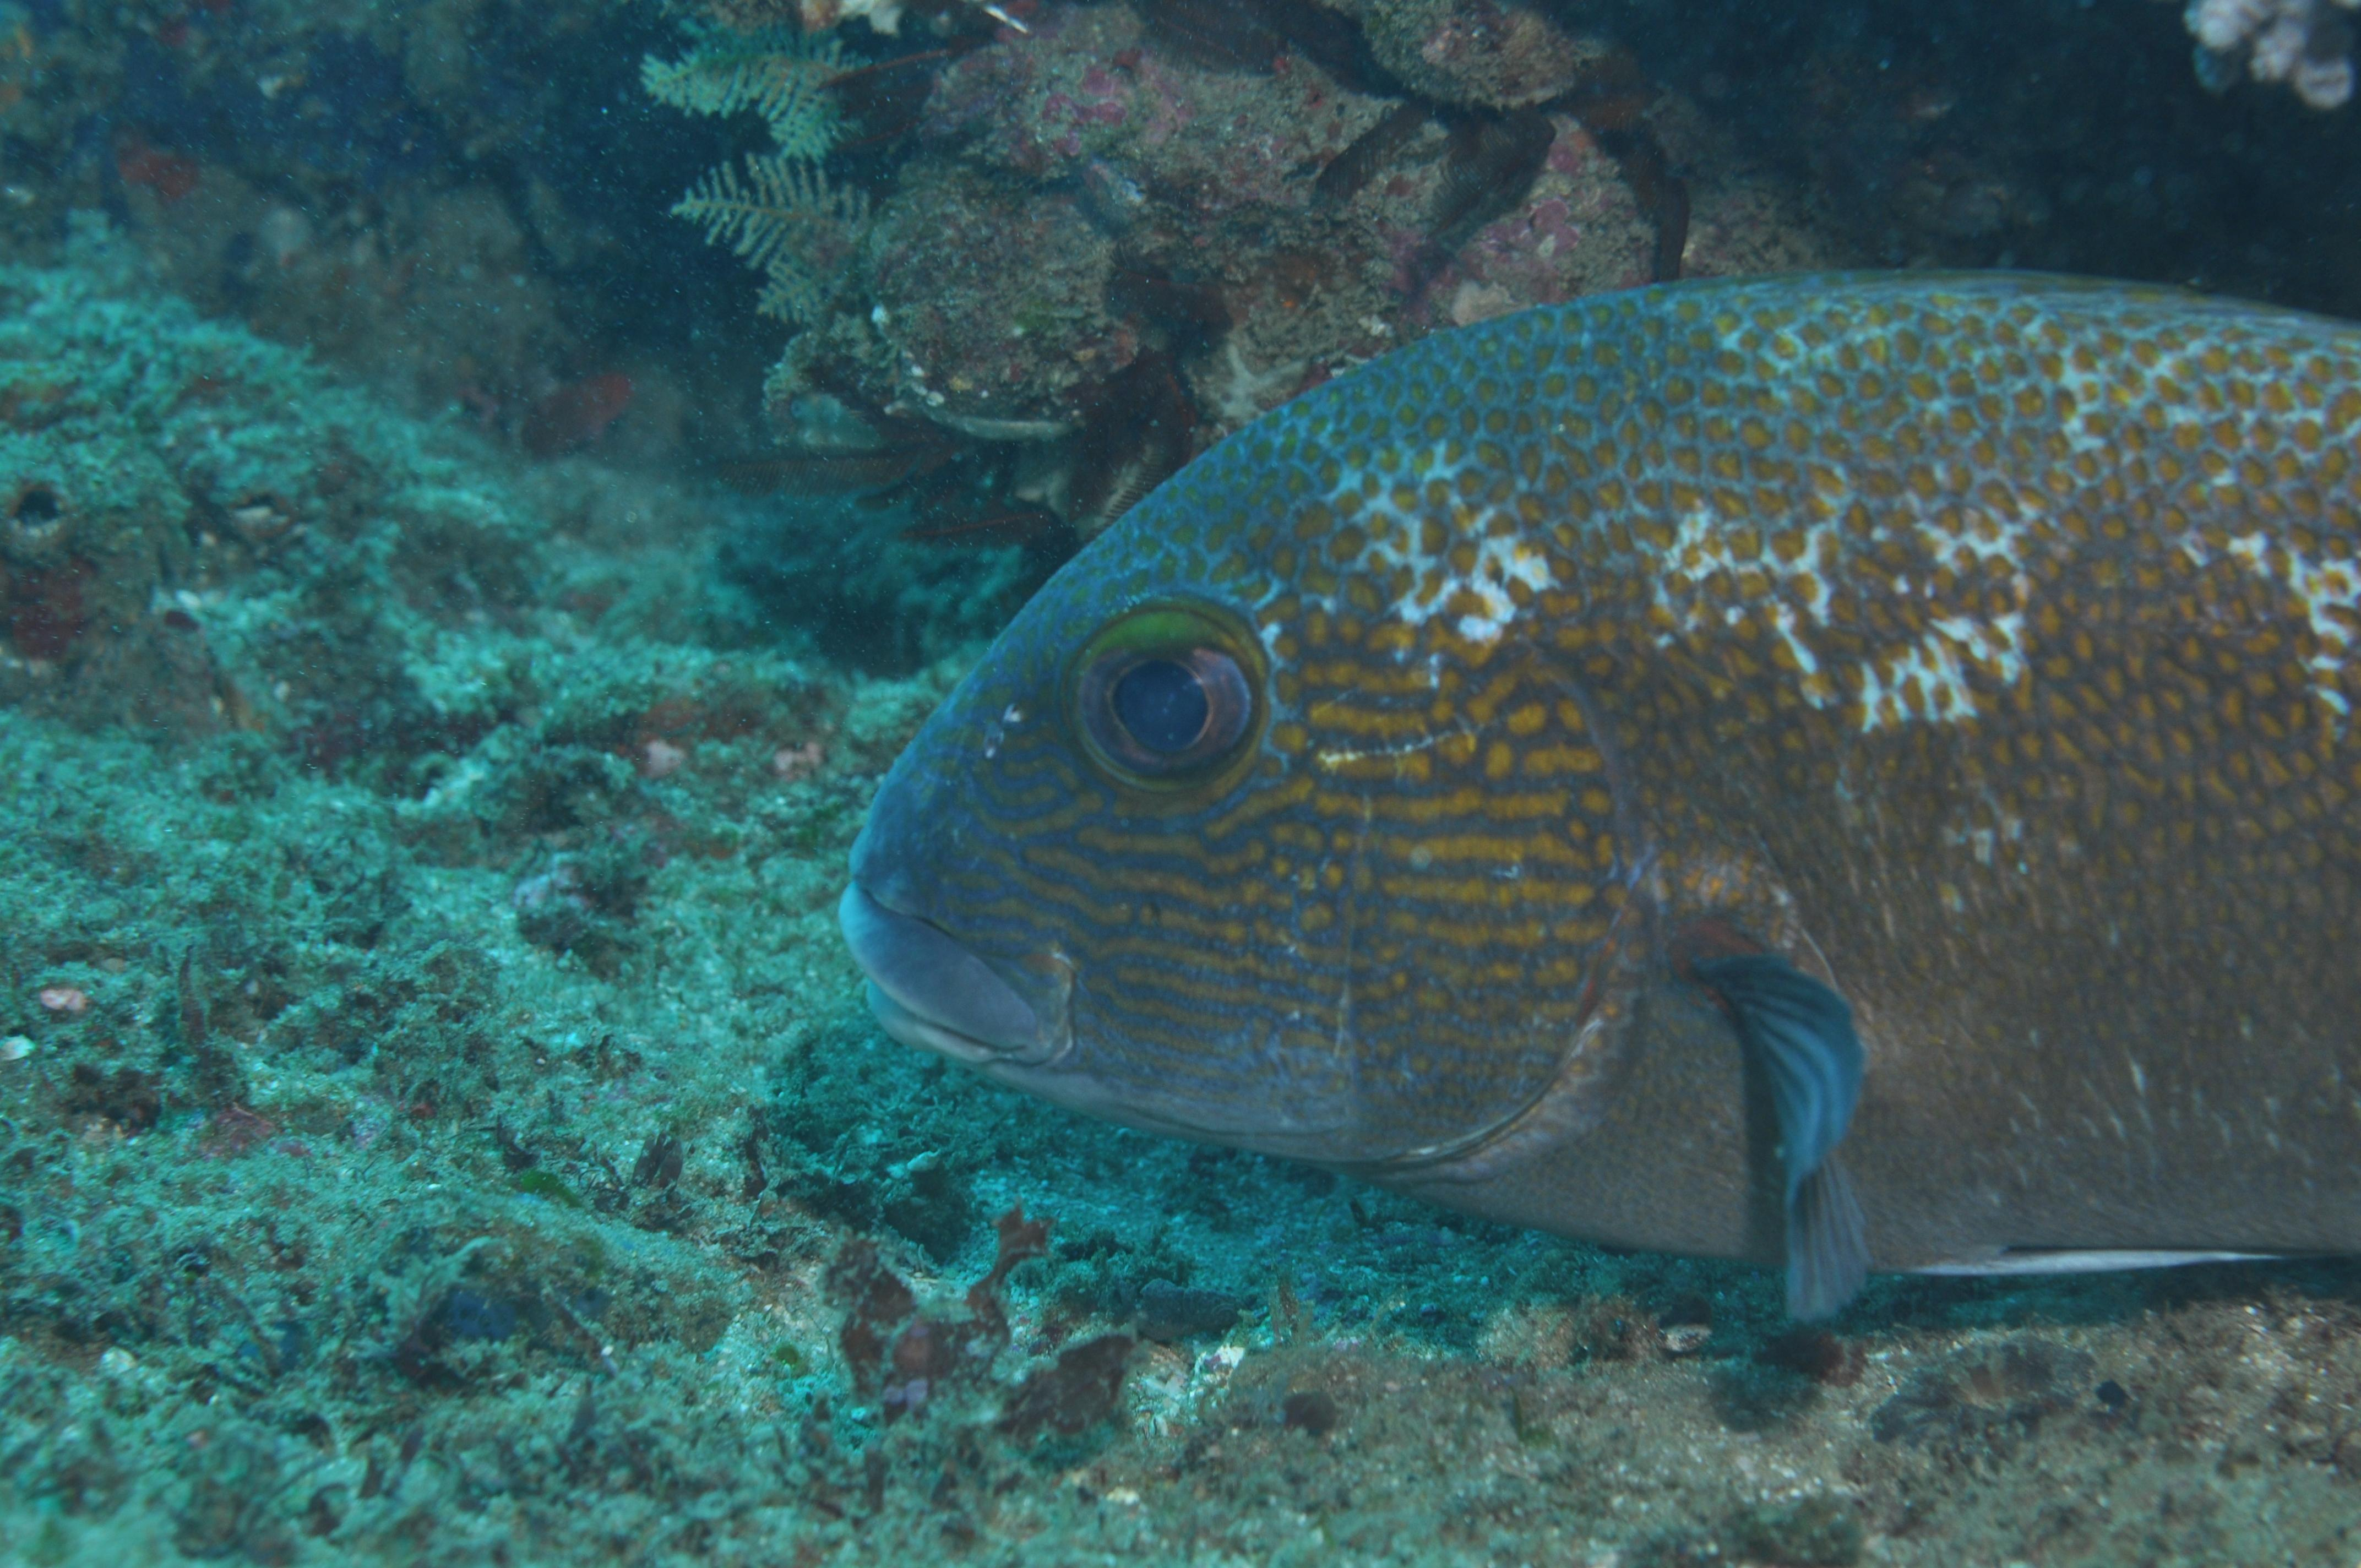Fish: (845, 270, 2361, 1279)
